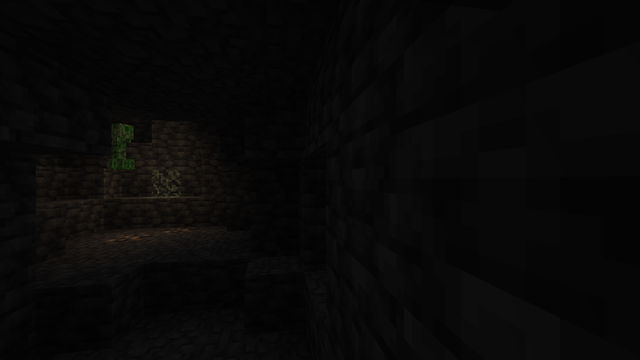creepers: (107, 121, 135, 169)
